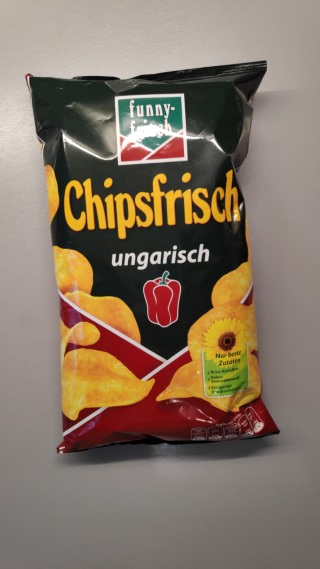chipsfrisch: (24, 60, 283, 456)
